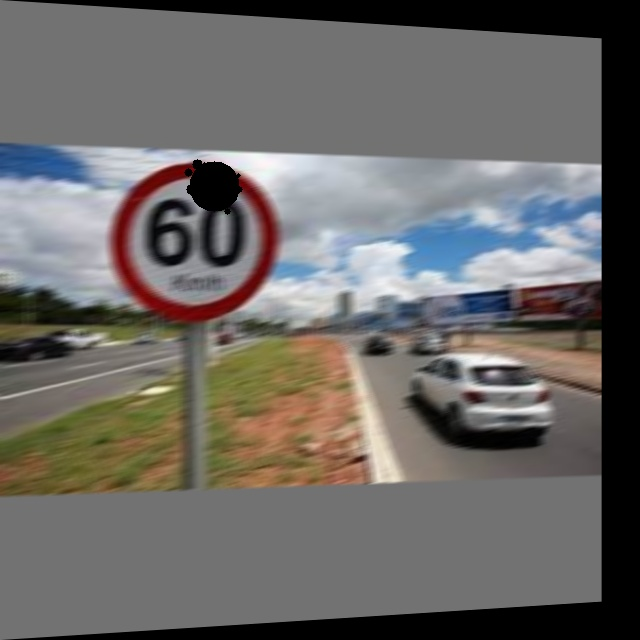Speed_Limit_60: (113, 155, 272, 320)
